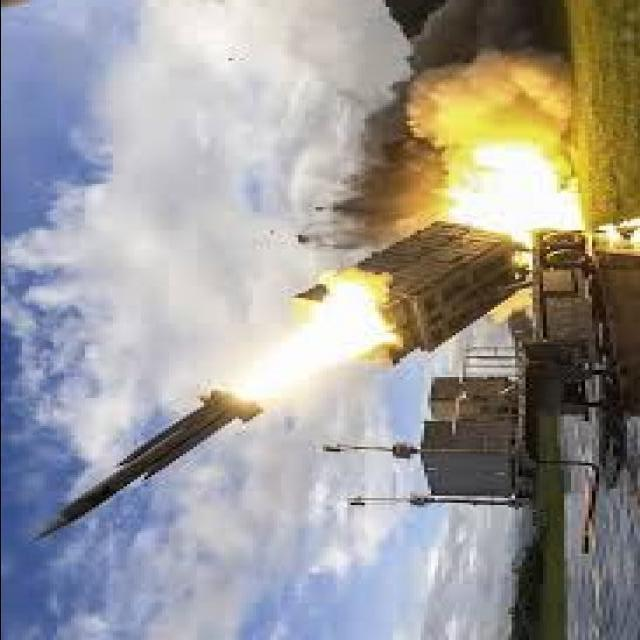missile: (28, 381, 264, 547)
